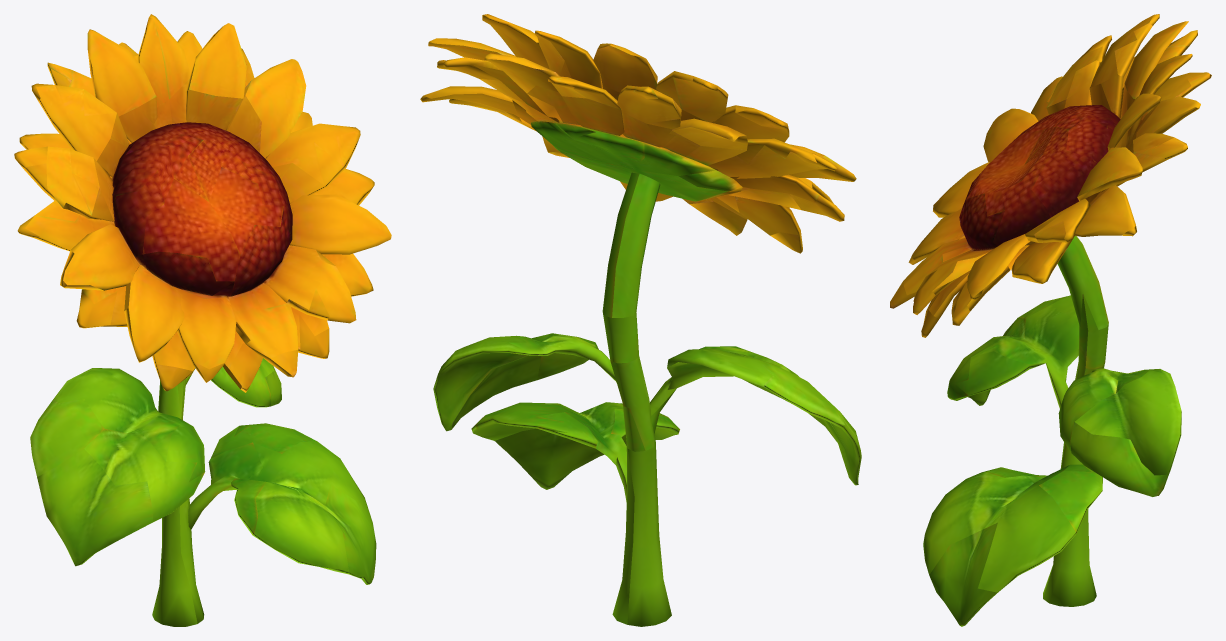
File: sunflower.glb
3 views of the same model, side by side, from view 1: azimuth 30°, elevation 25°; view 2: azimuth 150°, elevation 25°; view 3: azimuth 270°, elevation 25° (orthographic). The views are drawn at different scales.
Size of the model in its own units: 0.6641 by 1 by 0.5215.
1 material, 1 textured.
